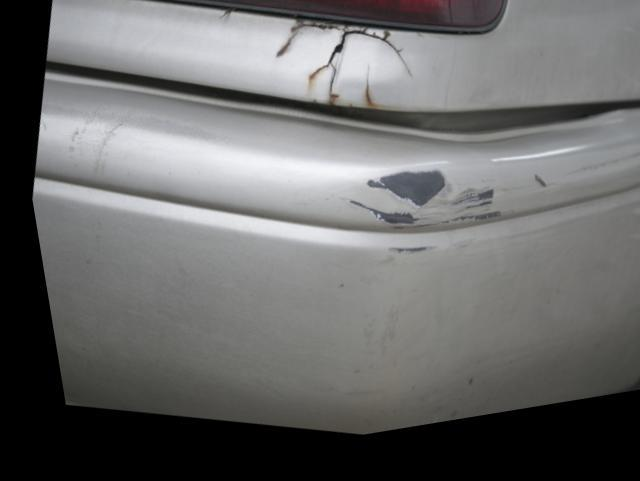crack: (296, 29, 410, 113)
scratch: (333, 156, 640, 273)
